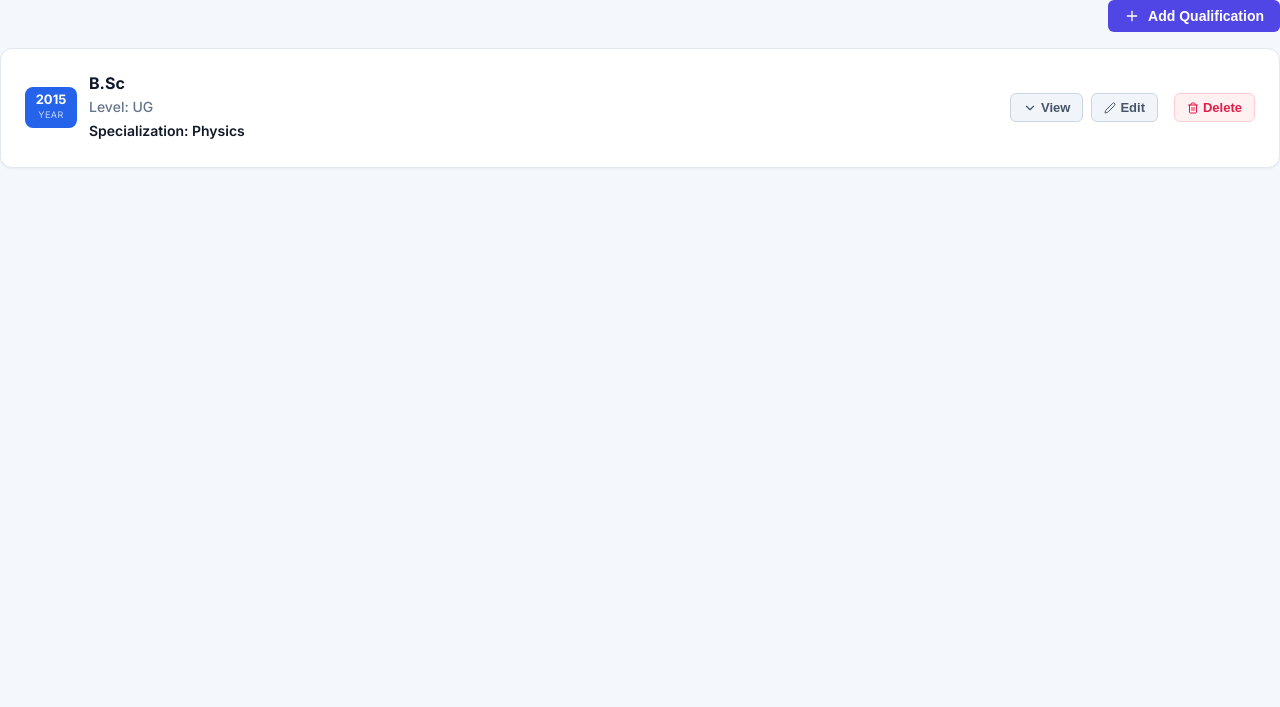
Test: Board / University searchable dropdown › 5+8: editing persists the new value and leaves other fields untouched
Click the button "Edit" at {"x": 1125, "y": 108}, box [1091, 93, 1158, 122]
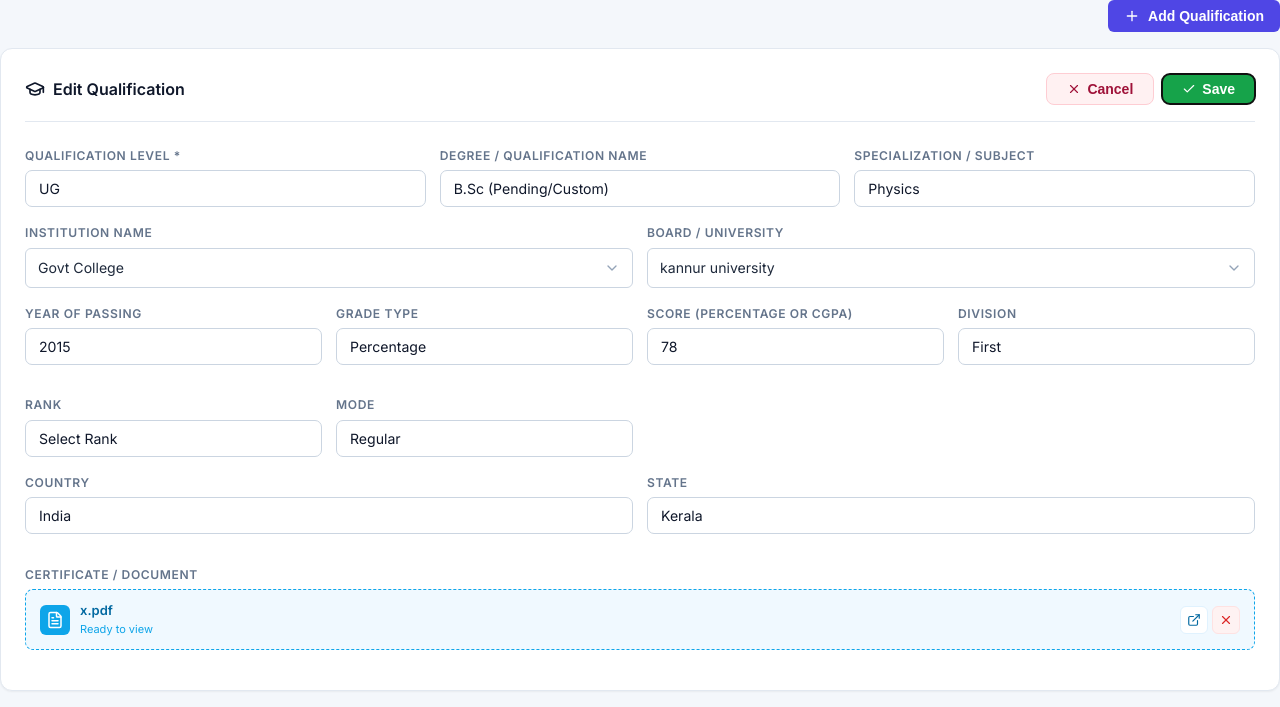
Click the dropdown labelled "kannur university" at {"x": 951, "y": 268}, box [647, 248, 1255, 288]
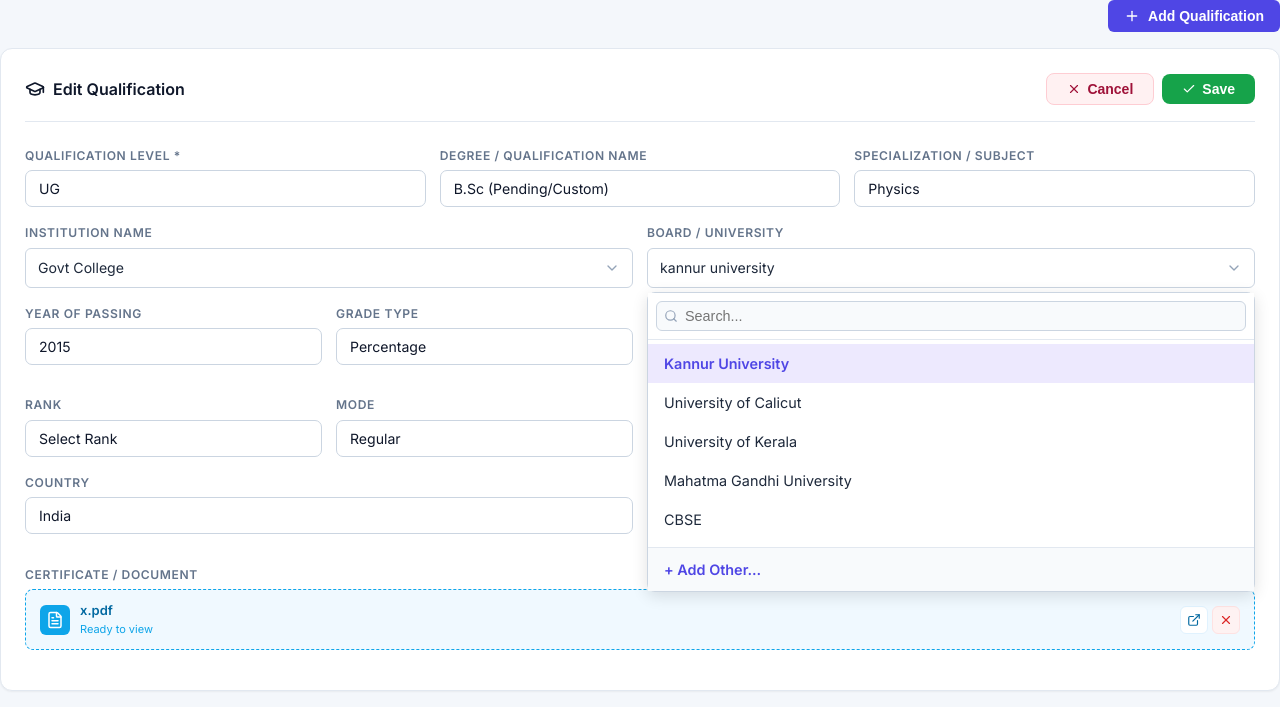
Click the option "Kannur University" at {"x": 727, "y": 364}, box [648, 344, 1254, 383]
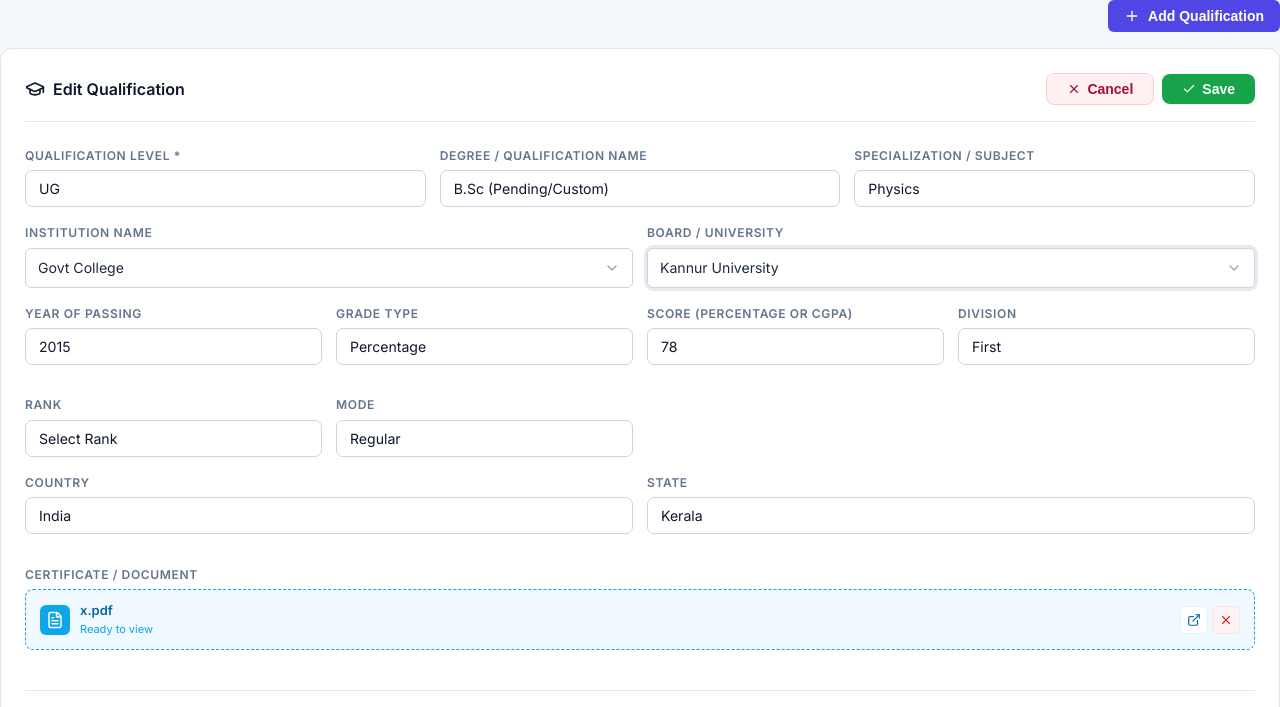
Click the button "Save" in the row of "Edit Qualification" at {"x": 1209, "y": 89}, box [1162, 74, 1255, 104]
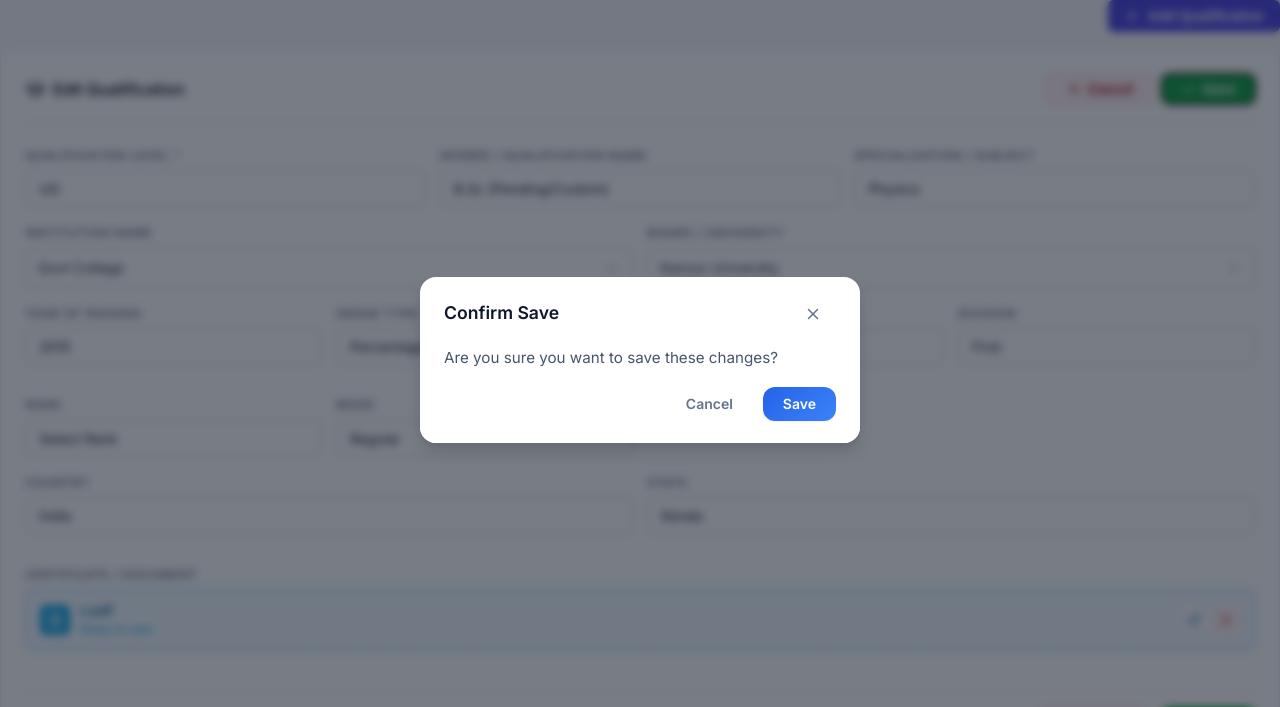
Click the button "Save" at {"x": 799, "y": 404}, box [763, 387, 836, 421]
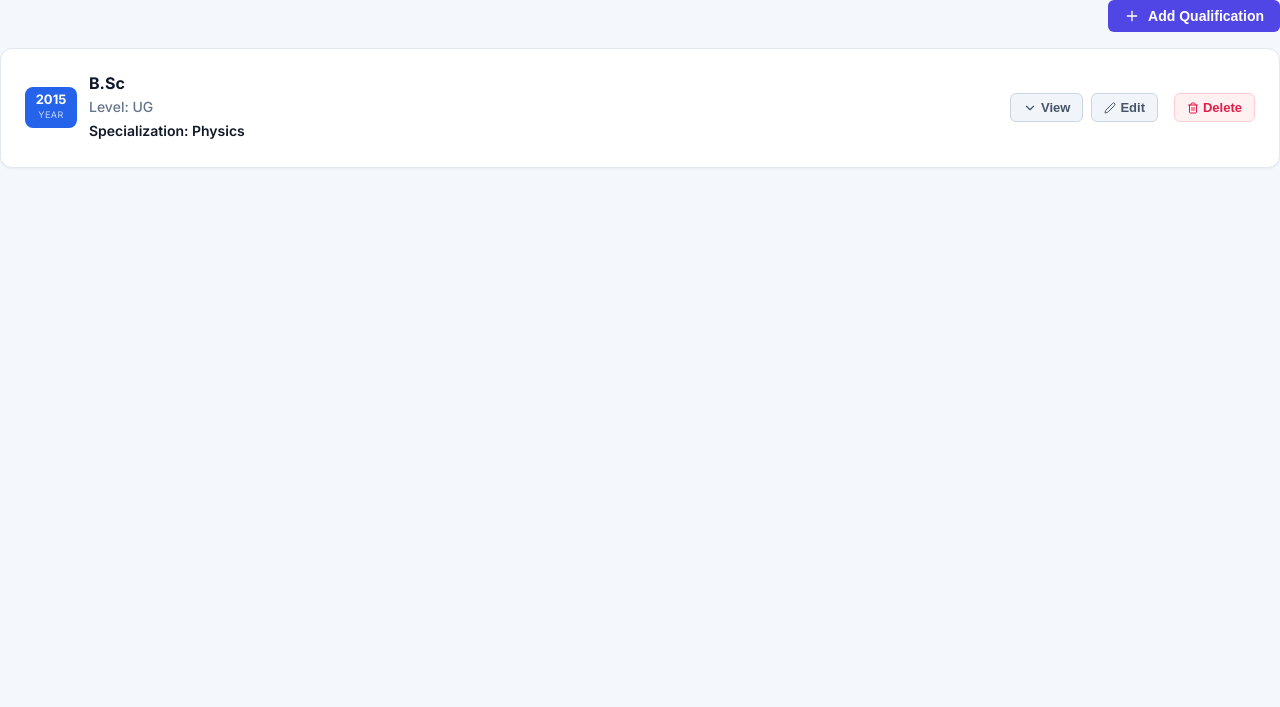
Now the dialog is gone
